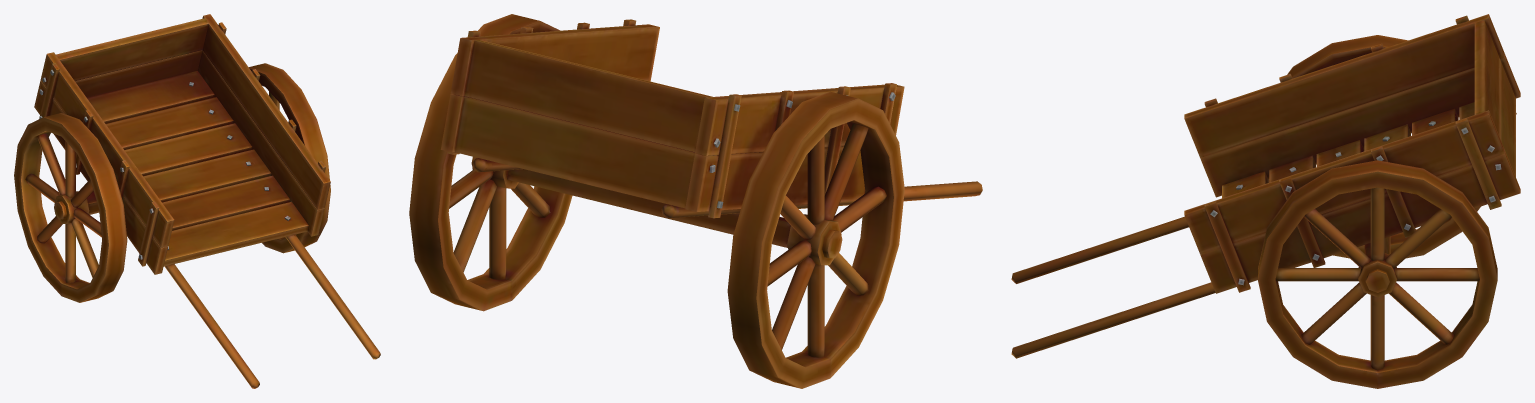
File: oncoming-village-12.glb
The picture shows the model from 3 angles, left to right: view 1: azimuth 30°, elevation 25°; view 2: azimuth 150°, elevation 25°; view 3: azimuth 270°, elevation 25°; orthographic projection. The views are drawn at different scales.
Parts seen in each view (by area): view 1: piece; view 2: piece; view 3: piece.
Part boxes in pixels (x1,y1,x2,y2): piece: (14,14,380,388); piece: (409,14,982,388); piece: (1011,14,1520,388).
Size of the model in its own units: 1.25 by 1.07 by 1.92.
1 material, 1 textured.
